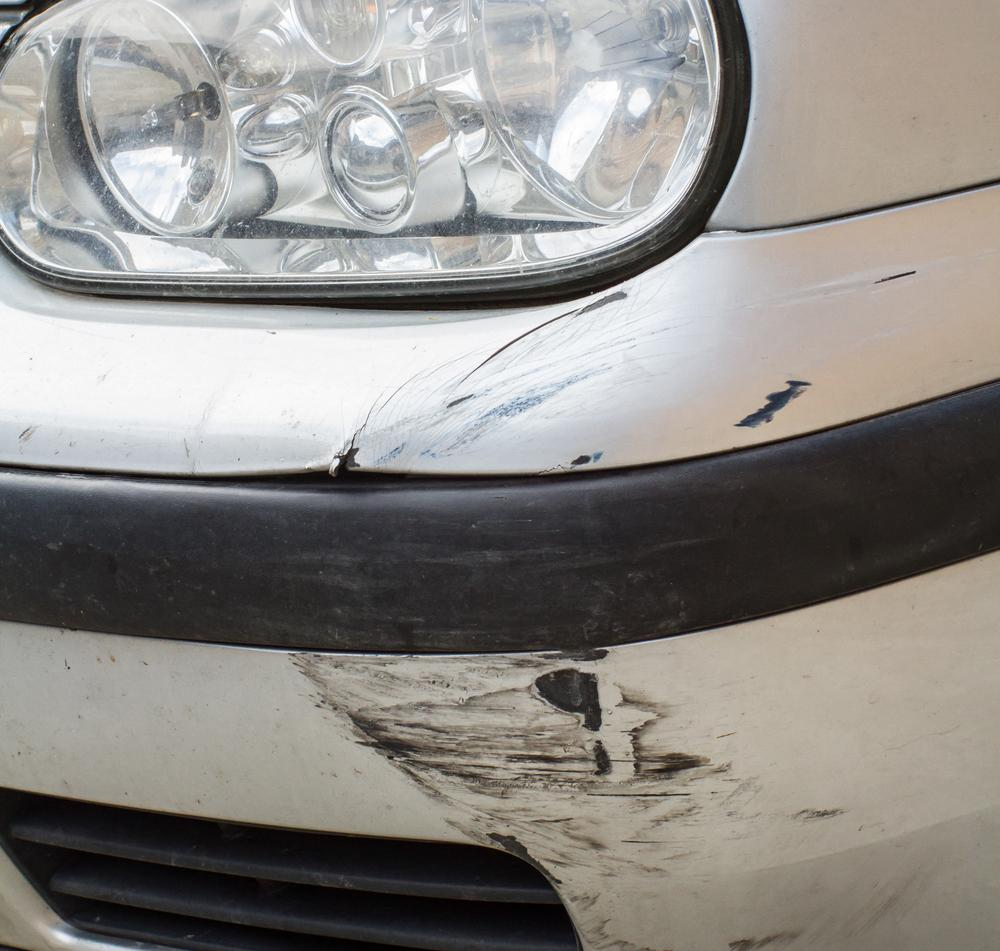scratch: (284, 647, 946, 951), (345, 247, 1000, 472)
